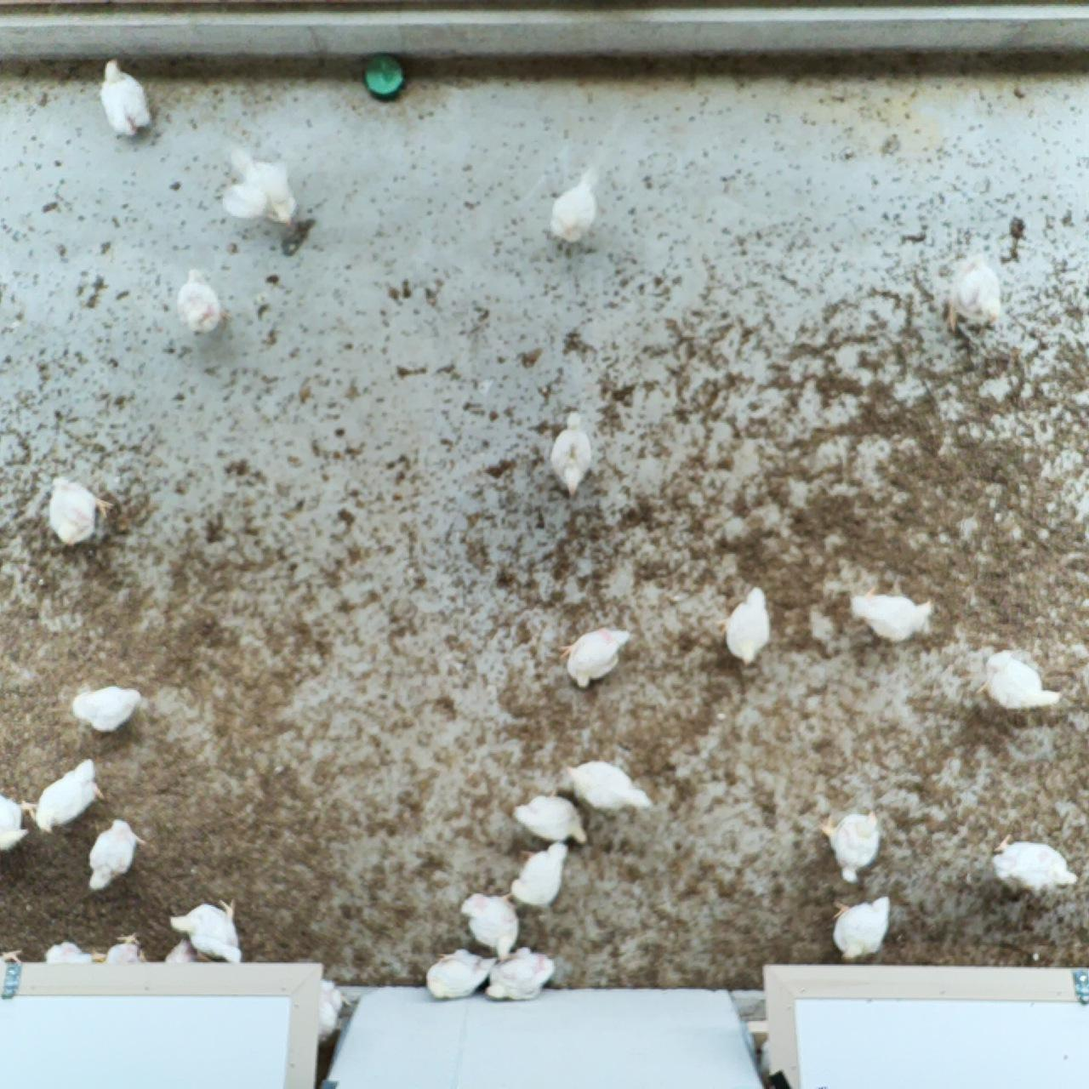chicken: (218, 145, 300, 228), (31, 757, 110, 837), (992, 830, 1082, 898), (973, 648, 1063, 712), (849, 580, 937, 644), (943, 248, 1004, 338), (167, 898, 244, 969), (556, 623, 634, 692), (561, 761, 654, 816), (814, 806, 880, 883), (97, 54, 155, 141), (46, 474, 115, 546), (716, 582, 772, 669), (84, 817, 148, 892), (507, 842, 573, 914), (460, 888, 523, 961), (548, 409, 597, 501), (482, 945, 558, 1003), (832, 894, 892, 964), (423, 948, 500, 1000), (512, 793, 588, 845), (548, 166, 598, 245), (71, 682, 142, 737), (175, 267, 225, 338), (311, 977, 352, 1049), (40, 935, 104, 971), (102, 928, 148, 968), (0, 795, 31, 852), (160, 938, 214, 967), (0, 946, 21, 967)
